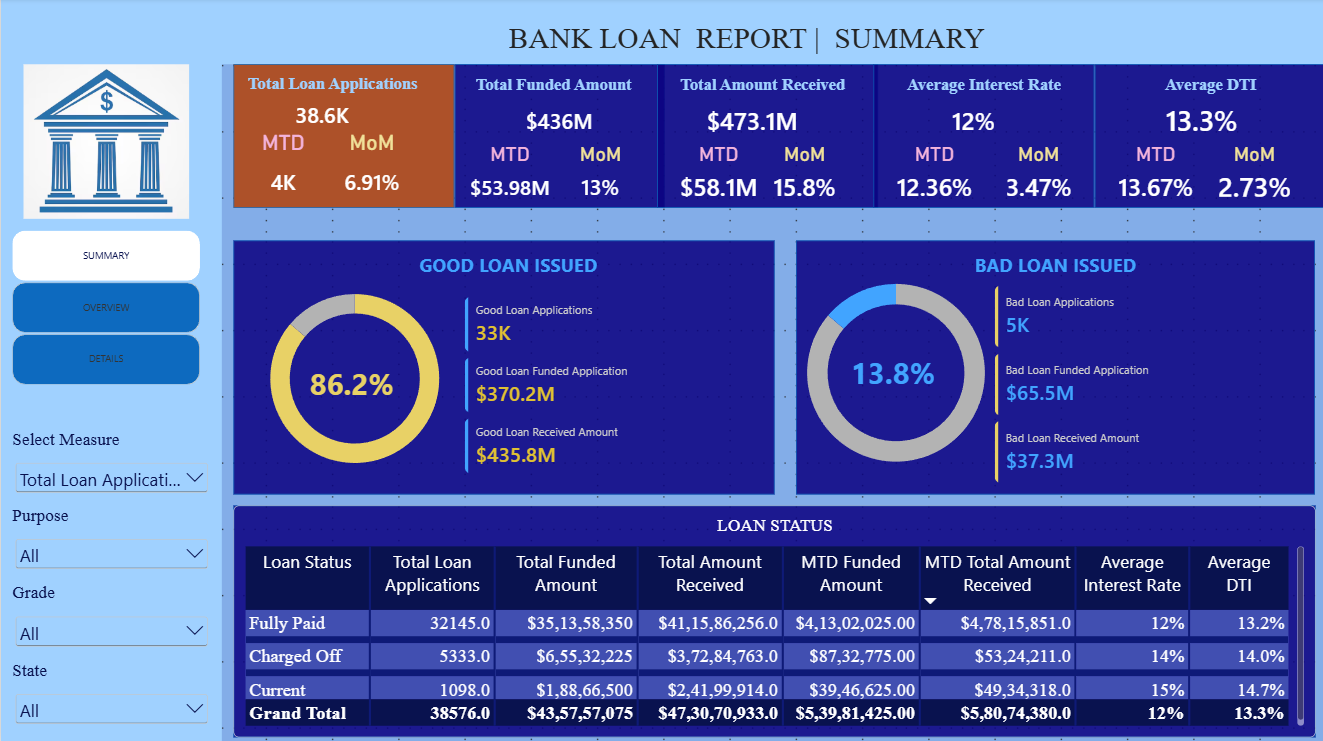

What the dashboard file says about the page in this screenshot:
{"tool":"powerbi","page":{"name":"SUMMARY","canvas":[1920,1080],"ordinal":0},"visuals":[{"type":"shape","box":[0,88,320,992],"z":0},{"type":"shape","box":[336,96,320,208],"z":0,"group":"g1"},{"type":"shape","box":[656,96,304,208],"z":0,"group":"g6"},{"type":"shape","box":[951.6,96,320,208],"z":0,"group":"g3"},{"type":"shape","box":[1264,96,320,208],"z":0,"group":"g4"},{"type":"shape","box":[1584,96,336,208],"z":0,"group":"g5"},{"type":"shape","box":[0,0,1920,96],"z":1000},{"type":"textbox","box":[624,112,352,32],"z":1000,"group":"g6"},{"type":"cardVisual","fields":{"Data":["bank_loan_data.Total Loan Applications"]},"box":[350.5,125.5,228.6,88.6],"z":1000,"group":"g1"},{"type":"cardVisual","fields":{"Data":["bank_loan_data.Total Aount Received"]},"box":[974.5,128,228.6,96],"z":1000,"group":"g3"},{"type":"cardVisual","fields":{"Data":["bank_loan_data.Average Interest Rate"]},"box":[1294.5,128,228.6,96],"z":1000,"group":"g4"},{"type":"cardVisual","fields":{"Data":["bank_loan_data.Average DTI"]},"box":[1616,128,240,96],"z":1000,"group":"g5"},{"type":"textbox","box":[240,32,1680,64],"z":2000},{"type":"textbox","box":[320,110.8,320,29.5],"z":2000,"group":"g1"},{"type":"textbox","box":[944,112,320,32],"z":2000,"group":"g3"},{"type":"textbox","box":[1264,112,320,32],"z":2000,"group":"g4"},{"type":"textbox","box":[1584,112,336,32],"z":2000,"group":"g5"},{"type":"cardVisual","title":"MoM","fields":{"Data":["bank_loan_data.MoM Total Funded Amount"]},"box":[791.6,208,150.9,80],"z":2000,"group":"g6"},{"type":"group","id":"g1","title":"Group 1","box":[320,96,336,208],"z":3000},{"type":"cardVisual","fields":{"Data":["bank_loan_data.Total Funded Amount"]},"box":[720,144,176,64],"z":3000,"group":"g6"},{"type":"cardVisual","title":"MTD","fields":{"Data":["bank_loan_data.MTD Loan Applications"]},"box":[336,192,144,96],"z":3000,"group":"g1"},{"type":"cardVisual","title":"MTD","fields":{"Data":["bank_loan_data.MTD Total Amount Received"]},"box":[960,208,160,80],"z":3000,"group":"g3"},{"type":"cardVisual","title":"MTD","fields":{"Data":["bank_loan_data.MTD Average Interest Rate"]},"box":[1280,208,144,80],"z":3000,"group":"g4"},{"type":"cardVisual","title":"MTD","fields":{"Data":["bank_loan_data.MTD Average DTI"]},"box":[1600,208,144,80],"z":3000,"group":"g5"},{"type":"group","id":"g2","title":"Group 1","box":[624,96,352,208],"z":4000},{"type":"cardVisual","title":"MoM","fields":{"Data":["bank_loan_data.MoM Loan Applications"]},"box":[464,192,144,96],"z":4000,"group":"g1"},{"type":"cardVisual","title":"MTD","fields":{"Data":["bank_loan_data.MTD Funded Amount"]},"box":[656,208,160,80],"z":4000,"group":"g6"},{"type":"cardVisual","title":"MoM","fields":{"Data":["bank_loan_data.Mom Loan Received"]},"box":[1096.4,208,137.1,80],"z":4000,"group":"g3"},{"type":"cardVisual","title":"MoM","fields":{"Data":["bank_loan_data.MoM Avg Int Rate"]},"box":[1424,208,160,80],"z":4000,"group":"g4"},{"type":"cardVisual","title":"MoM","fields":{"Data":["bank_loan_data.MoM Average DTI"]},"box":[1744,208,160,96],"z":4000,"group":"g5"},{"type":"shape","box":[336,352,784,368],"z":5000},{"type":"group","id":"g3","title":"Group 1","box":[944,96,320,208],"z":6000},{"type":"group","id":"g4","title":"Group 1","box":[1264,96,320,208],"z":7000},{"type":"group","id":"g5","title":"Group 1","box":[1584,96,336,208],"z":8000},{"type":"shape","box":[1152,352,752,368],"z":9000},{"type":"donutChart","fields":{"Category":["bank_loan_data.Good vs Bad Loan"],"Y":["bank_loan_data.Total Loan Applications"]},"box":[320,384,384,336],"z":10000},{"type":"textbox","box":[448,528,128,64],"z":11000},{"type":"group","id":"g6","title":"Group 2","box":[624,96,352,208],"z":11001,"group":"g2"},{"type":"textbox","box":[352,368,768,48],"z":12000},{"type":"cardVisual","fields":{"Data":["bank_loan_data.Good Loan Applications","bank_loan_data.Good Loan Funded Application","bank_loan_data.Good Loan Received Amount"]},"box":[672,432,432,256],"z":13000},{"type":"donutChart","fields":{"Category":["bank_loan_data.Good vs Bad Loan"],"Y":["bank_loan_data.Total Loan Applications"]},"box":[1104,368,384,352],"z":14000},{"type":"textbox","box":[1152,368,752,48],"z":15000},{"type":"textbox","box":[1232,512,144,64],"z":16000},{"type":"cardVisual","fields":{"Data":["bank_loan_data.Bad Loan Applications","bank_loan_data.Bad Loan Funded Application","bank_loan_data.Bad Loan Received Amount"]},"box":[1440,416,400,288],"z":17000},{"type":"shape","box":[336,736,1568,336],"z":18000},{"type":"tableEx","title":"LOAN STATUS","fields":{"Values":["bank_loan_data.loan_status","bank_loan_data.Total Loan Applications","bank_loan_data.Total Funded Amount","bank_loan_data.Total Aount Received","bank_loan_data.MTD Funded Amount","bank_loan_data.MTD Total Amount Received","bank_loan_data.Average Interest Rate","bank_loan_data.Average DTI"]},"box":[336,736,1568,336],"z":19000},{"type":"slicer","title":"Purpose","fields":{"Values":["bank_loan_data.purpose"]},"box":[16,736,288,96],"z":20000},{"type":"slicer","title":"Grade","fields":{"Values":["bank_loan_data.grade"]},"box":[16,848,288,96],"z":21000},{"type":"slicer","title":"State","fields":{"Values":["bank_loan_data.address_state"]},"box":[16,960,288,112],"z":22000},{"type":"image","box":[32,96,240,224],"z":23000},{"type":"pageNavigator","box":[16,336,272,224],"z":24000},{"type":"slicer","title":"Select Measure","fields":{"Values":["Select Measure.Select Measure"]},"box":[16,624,288,96],"z":25000}]}

Visuals, with their boxes in screenshot pixels (x1, y1, x2, y2), scaled from the page's 1920x1080 canvas onto the 1323x741 screenshot:
shape: 0, 60, 220, 740
shape: 232, 66, 452, 209
shape: 452, 66, 662, 209
shape: 656, 66, 876, 209
shape: 871, 66, 1091, 209
shape: 1091, 66, 1322, 209
shape: 0, 0, 1322, 66
textbox: 430, 77, 673, 99
cardVisual - bank_loan_data.Total Loan Applications: 242, 86, 399, 147
cardVisual - bank_loan_data.Total Aount Received: 671, 88, 829, 154
cardVisual - bank_loan_data.Average Interest Rate: 892, 88, 1050, 154
cardVisual - bank_loan_data.Average DTI: 1114, 88, 1279, 154
textbox: 165, 22, 1322, 66
textbox: 220, 76, 441, 96
textbox: 650, 77, 871, 99
textbox: 871, 77, 1091, 99
textbox: 1091, 77, 1322, 99
"MoM" cardVisual: 545, 143, 649, 198
"Group 1" group: 220, 66, 452, 209
cardVisual - bank_loan_data.Total Funded Amount: 496, 99, 617, 143
"MTD" cardVisual: 232, 132, 331, 198
"MTD" cardVisual: 662, 143, 772, 198
"MTD" cardVisual: 882, 143, 981, 198
"MTD" cardVisual: 1102, 143, 1202, 198
"Group 1" group: 430, 66, 673, 209
"MoM" cardVisual: 320, 132, 419, 198
"MTD" cardVisual: 452, 143, 562, 198
"MoM" cardVisual: 755, 143, 850, 198
"MoM" cardVisual: 981, 143, 1091, 198
"MoM" cardVisual: 1202, 143, 1312, 209
shape: 232, 242, 772, 494
"Group 1" group: 650, 66, 871, 209
"Group 1" group: 871, 66, 1091, 209
"Group 1" group: 1091, 66, 1322, 209
shape: 794, 242, 1312, 494
donutChart - bank_loan_data.Good vs Bad Loan x bank_loan_data.Total Loan Applications: 220, 263, 485, 494
textbox: 309, 362, 397, 406
"Group 2" group: 430, 66, 673, 209
textbox: 243, 252, 772, 285
cardVisual - bank_loan_data.Good Loan Applications x bank_loan_data.Good Loan Funded Application: 463, 296, 761, 472
donutChart - bank_loan_data.Good vs Bad Loan x bank_loan_data.Total Loan Applications: 761, 252, 1025, 494
textbox: 794, 252, 1312, 285
textbox: 849, 351, 948, 395
cardVisual - bank_loan_data.Bad Loan Applications x bank_loan_data.Bad Loan Funded Application: 992, 285, 1268, 483
shape: 232, 505, 1312, 736
"LOAN STATUS" tableEx: 232, 505, 1312, 736
"Purpose" slicer: 11, 505, 209, 571
"Grade" slicer: 11, 582, 209, 648
"State" slicer: 11, 659, 209, 736
image: 22, 66, 187, 220
pageNavigator: 11, 231, 198, 384
"Select Measure" slicer: 11, 428, 209, 494
